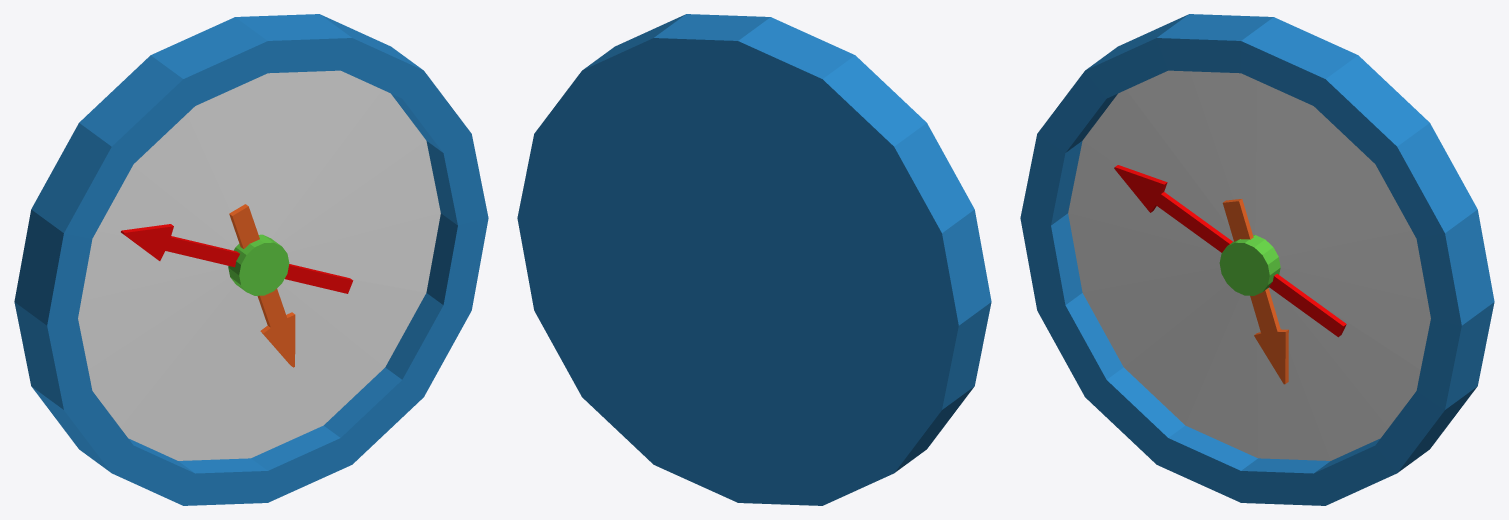
The model's file is Prop_KidsClock.fbx.
3 views of the same model, side by side, from view 1: azimuth 30°, elevation 25°; view 2: azimuth 150°, elevation 25°; view 3: azimuth 330°, elevation 25° (orthographic).
Visible parts, largest first — view 1: Prop_KidsClock; view 2: Prop_KidsClock; view 3: Prop_KidsClock.
Part boxes in pixels (bbox=[...]): Prop_KidsClock: bbox=[14, 14, 488, 505]; Prop_KidsClock: bbox=[517, 14, 991, 505]; Prop_KidsClock: bbox=[1020, 14, 1494, 505].
Size of the model in its own units: 48.18 by 48.18 by 6.22.
